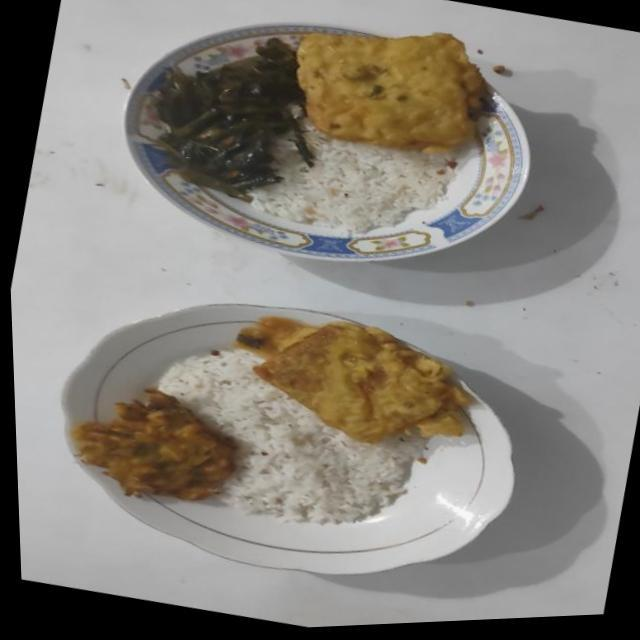nasi_putih: (156, 350, 428, 524), (247, 118, 456, 236)
tumis_kangkung: (153, 37, 314, 202)
